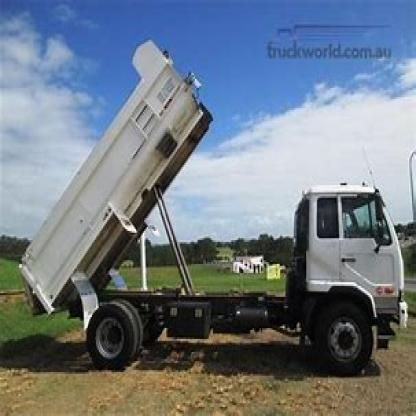dump_truck: (18, 40, 406, 383)
